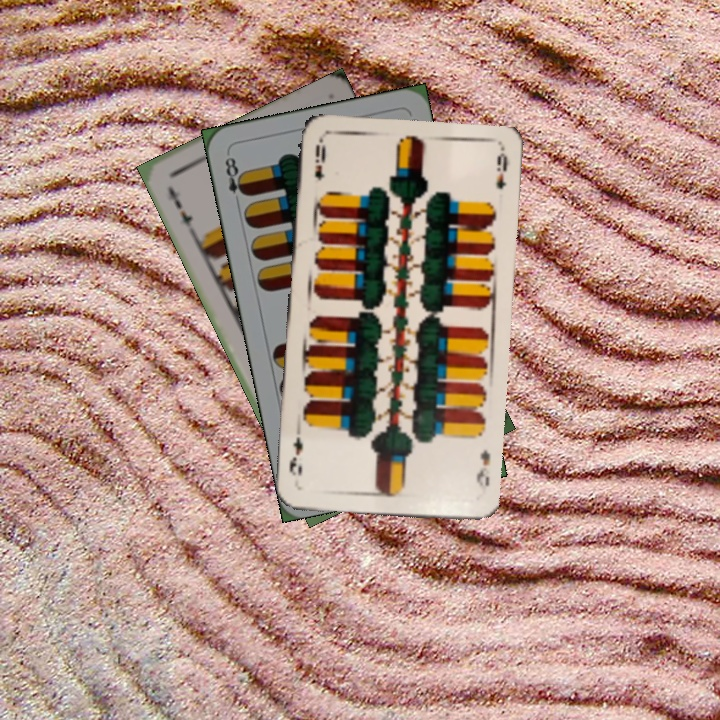E7: (163, 182, 196, 234)
E8: (221, 153, 250, 209)
E9: (472, 446, 493, 498), (310, 137, 328, 183)
